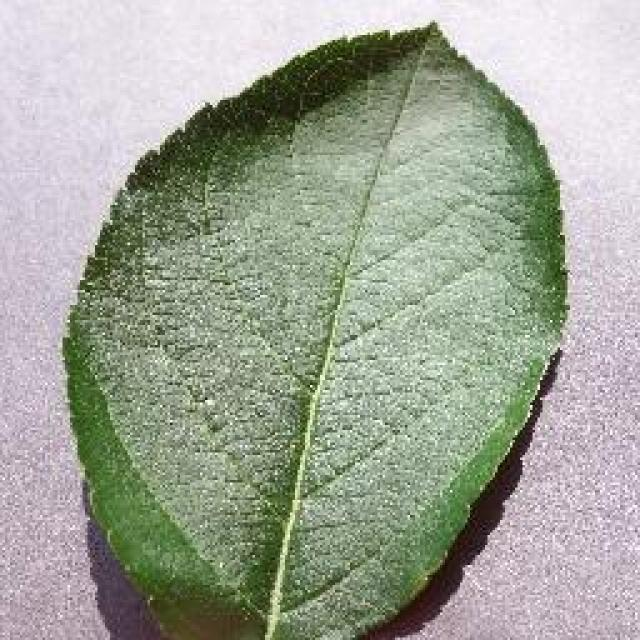apple healthy: (58, 18, 570, 638)
